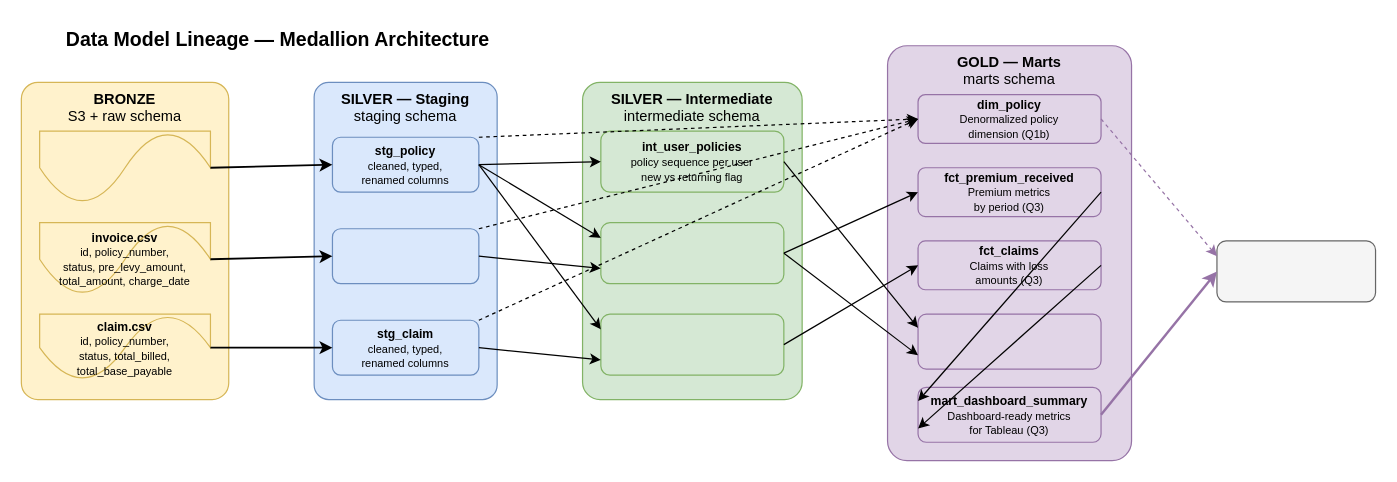
Image size: 1397x482. Some labels were removed from this diagram. The shapes that lost their labels are listed below. From the top down, each one's centre as x and y in pixels, then its label:
(124,167): policy.csv id, policy_number, user_id, product, issue_date, gender, dob
(405,256): stg_invoice cleaned, typed, renamed columns
(692,252): int_policy_premiums policy + aggregated invoice amounts
(1296,271): Tableau Public Dashboard
(692,344): int_policy_claims policy + aggregated claim amounts
(1009,341): mart_new_vs_returning Avg premium comparison new vs returning (Q1a)
